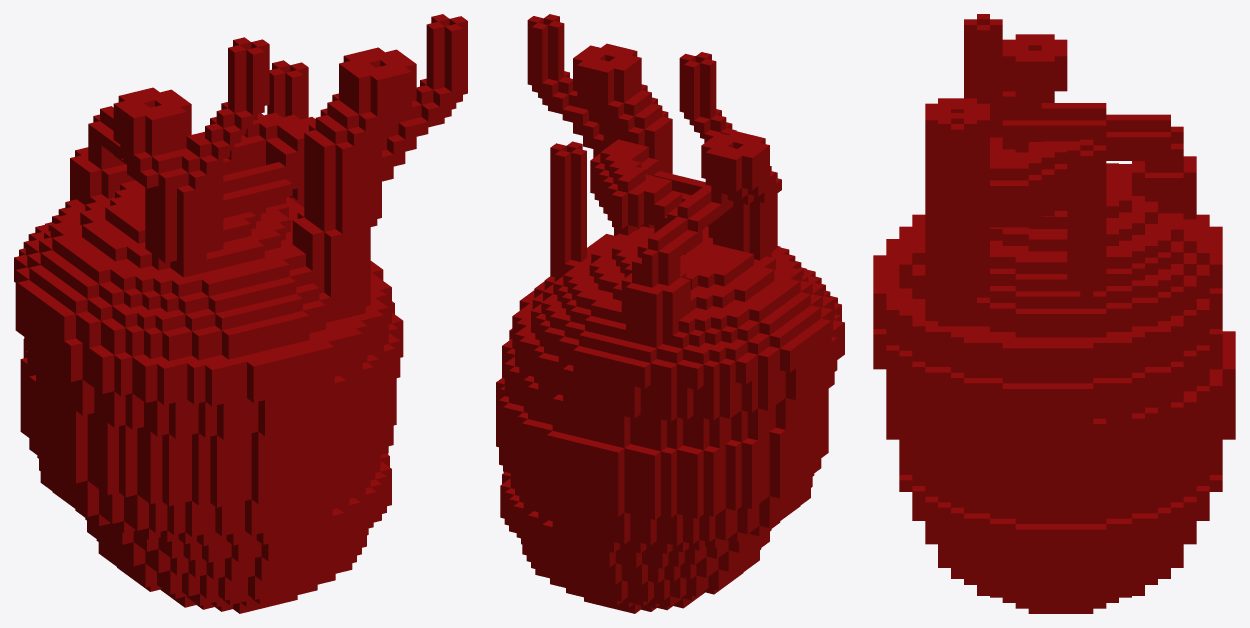
Rendered from bocale-0-coeur.obj.
The picture shows the model from 3 angles, left to right: view 1: azimuth 30°, elevation 25°; view 2: azimuth 150°, elevation 25°; view 3: azimuth 270°, elevation 25°; orthographic projection. The views are drawn at different scales.
Parts seen in each view (by area): view 1: coeur; view 2: coeur; view 3: coeur.
Part boxes in pixels (x1,y1,x2,y2): coeur: (14,14,467,613); coeur: (496,14,844,613); coeur: (873,14,1235,613).
Bounding box in the file's own units: 3.2 × 4.7 × 2.8.
1 material, 1 textured.
